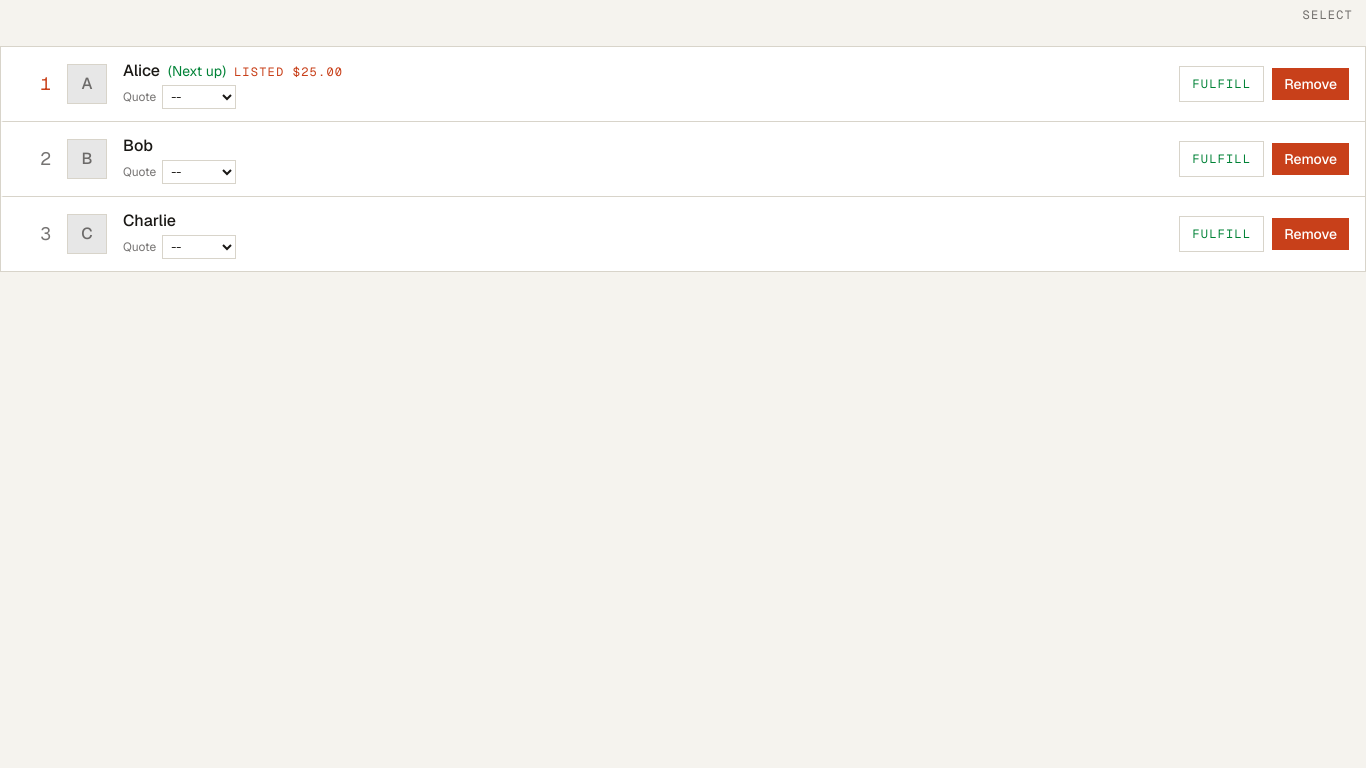
Test: QueueDisplay › Removal Modal › shows transaction info in removal modal
Click the button "Remove" in the row of "$25.00".
click(1311, 84)  # box x1=1272 y1=68 x2=1349 y2=100
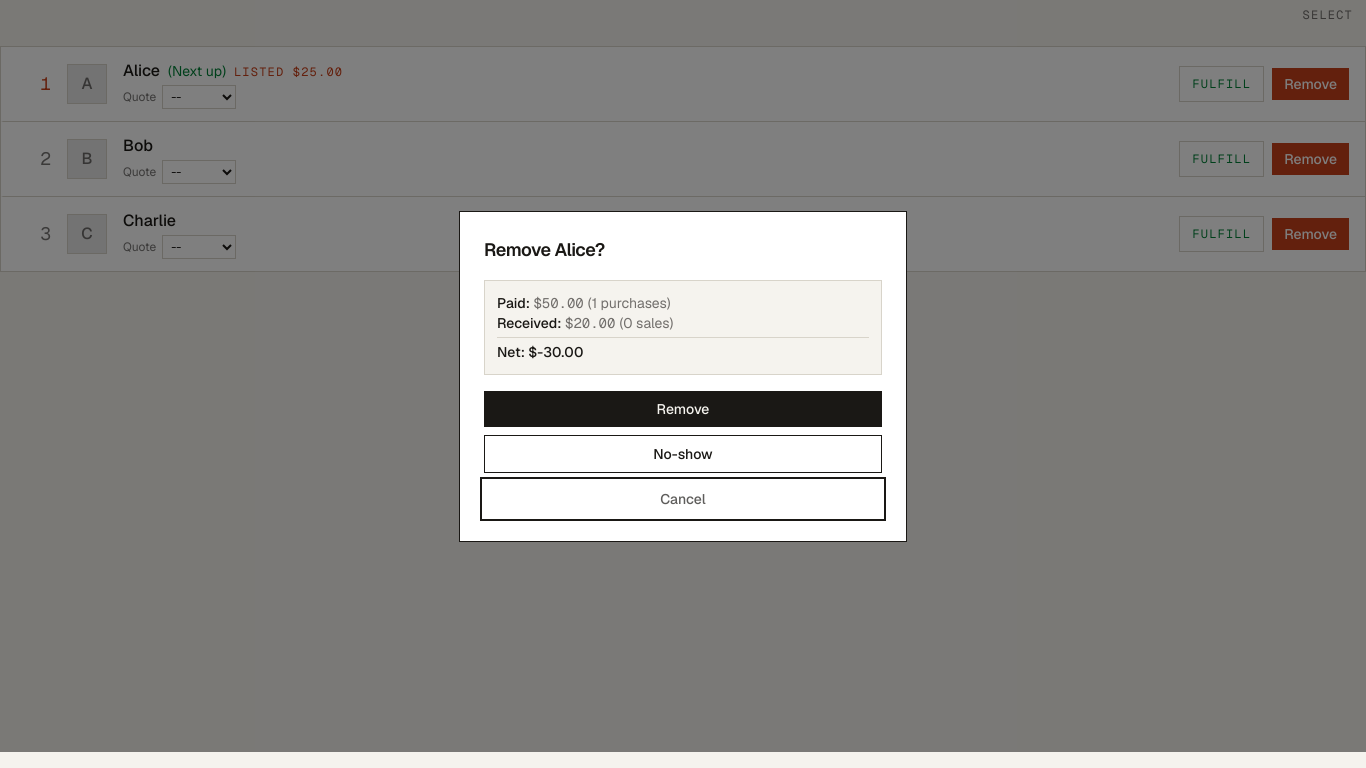
Check: the text "$50.00" is shown, box x1=533 y1=294 x2=584 y2=312
Check: the text "$20.00" is shown, box x1=565 y1=314 x2=615 y2=332
Check: the text "Net: $-30.00" is shown, box x1=497 y1=336 x2=869 y2=362
